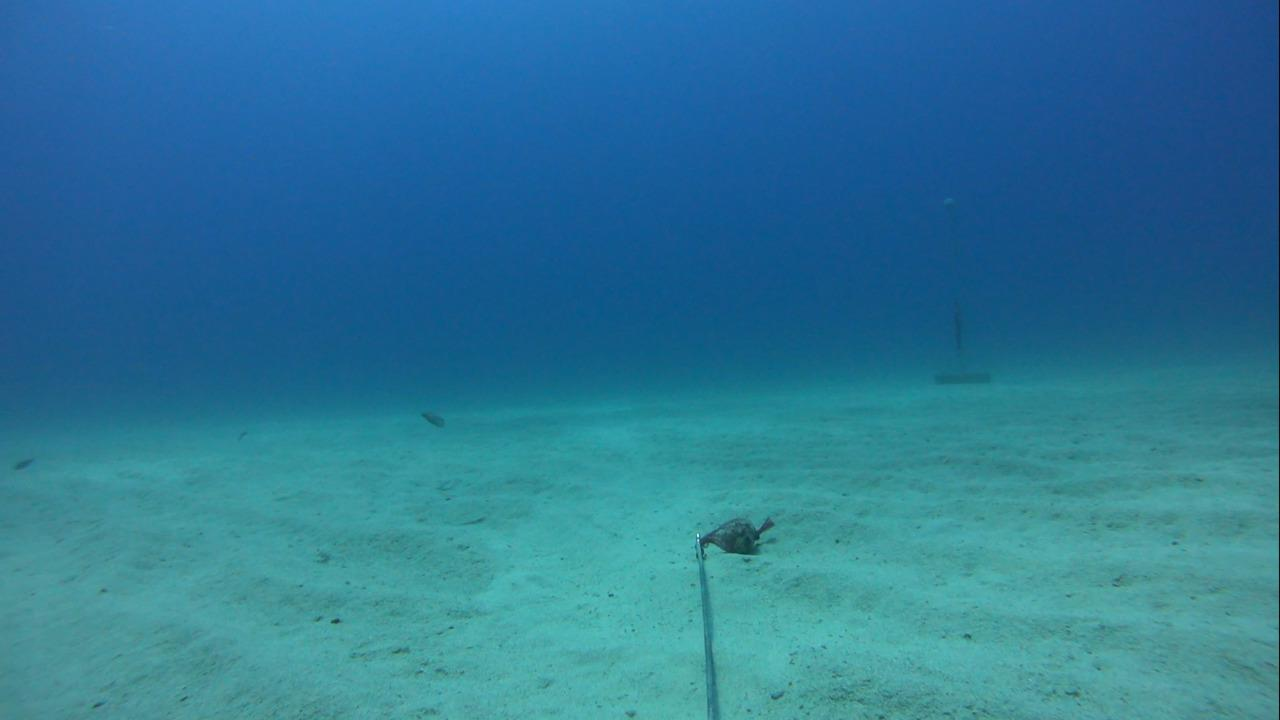raor: (407, 394, 456, 437)
